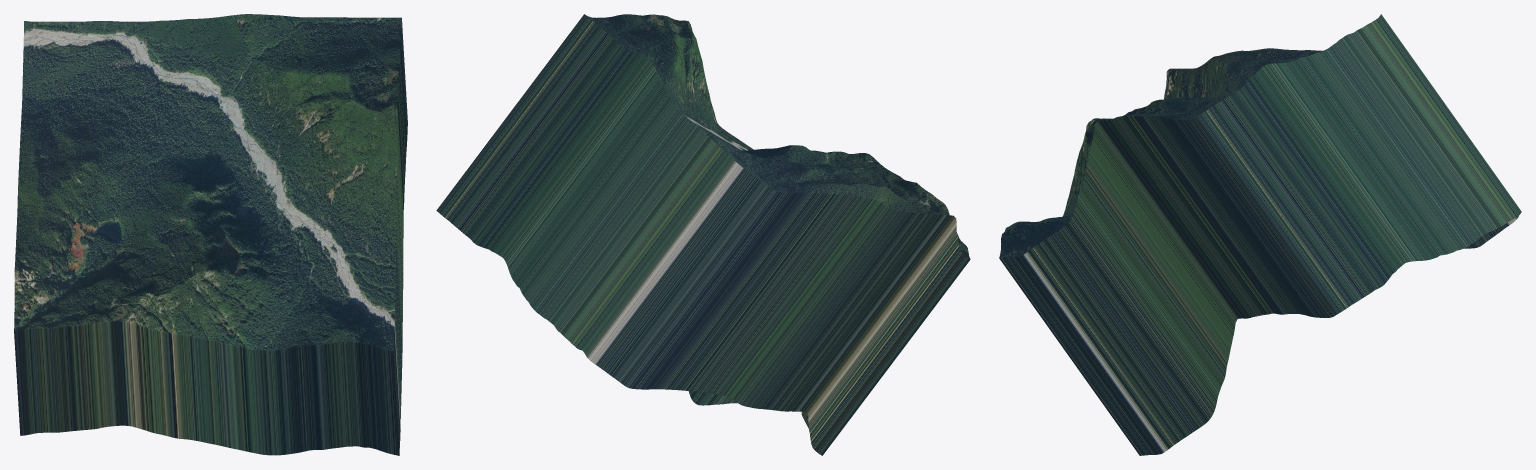
3 views of the same model, side by side, from view 1: azimuth 30°, elevation 25°; view 2: azimuth 150°, elevation 25°; view 3: azimuth 270°, elevation 25° (orthographic). The views are drawn at different scales.
Bounding box in the file's own units: 6209 × 4886 × 6461.
1 material, 1 textured.
